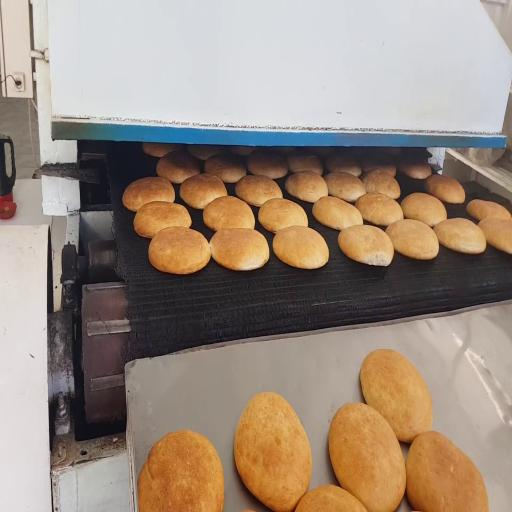bread: (234, 393, 311, 511), (329, 403, 405, 511), (138, 431, 224, 511), (360, 349, 432, 443), (406, 431, 488, 511), (149, 227, 210, 274), (210, 229, 269, 270), (273, 226, 328, 269), (338, 225, 393, 266), (386, 220, 439, 260), (134, 202, 191, 238), (434, 218, 486, 254), (203, 196, 255, 231), (296, 485, 366, 511), (123, 177, 175, 211), (312, 197, 362, 230), (180, 174, 227, 209), (259, 199, 307, 232), (356, 193, 403, 226), (401, 193, 446, 227), (235, 176, 282, 206), (157, 151, 200, 183), (285, 171, 328, 202), (204, 154, 246, 183), (324, 173, 365, 202), (247, 150, 287, 179), (425, 174, 465, 203), (479, 218, 511, 254), (362, 169, 400, 199), (467, 200, 511, 220), (287, 150, 322, 175), (325, 154, 361, 176), (362, 156, 396, 176), (398, 160, 431, 179), (187, 145, 225, 160), (142, 143, 182, 157), (310, 147, 338, 157), (269, 146, 296, 156), (230, 146, 255, 156)
